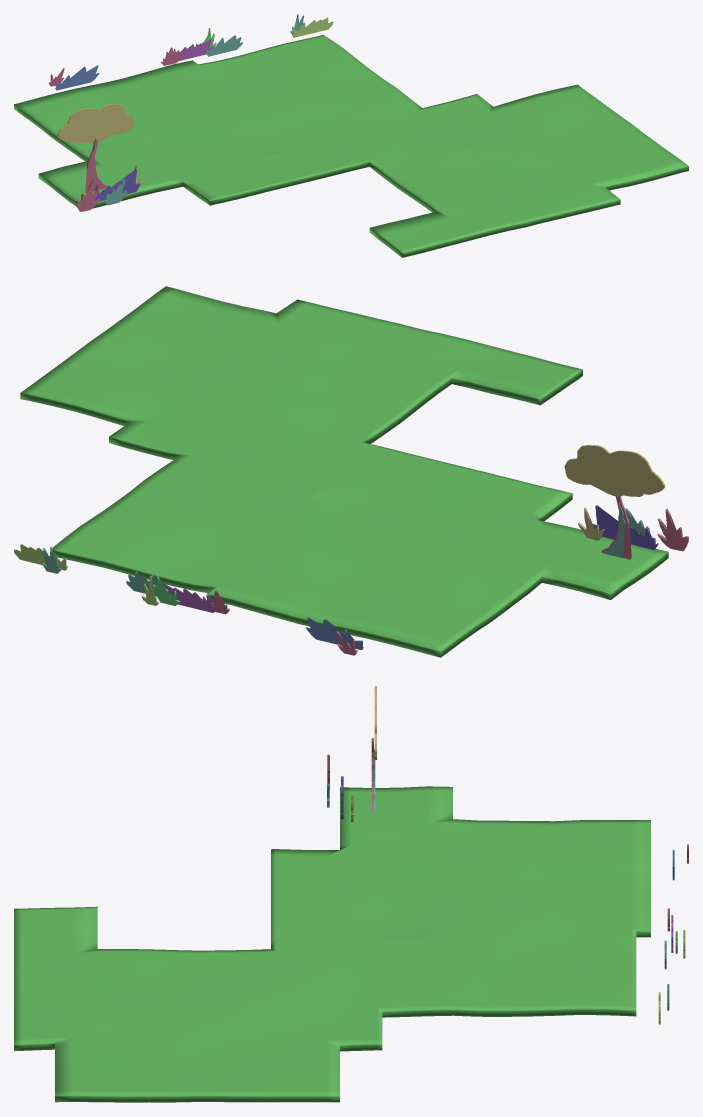
File: additions.fbx
3 views of the same model, one above another, from view 1: azimuth 30°, elevation 25°; view 2: azimuth 150°, elevation 25°; view 3: azimuth 270°, elevation 25° (orthographic). The views are drawn at different scales.
Visible parts, largest first — view 1: Plane.019, Plane.016, Plane.006, Plane.011, Plane.014, Plane.004, Plane.002, Plane.012, Plane.003; view 2: Plane.019, Plane.016, Plane.011, Plane.006, Plane.012, Plane.003; view 3: Plane.019.
Part boxes in pixels (x1=…): Plane.019: x1=14, y1=35, x2=688, y2=257; Plane.016: x1=57, y1=104, x2=133, y2=143; Plane.006: x1=55, y1=65, x2=99, y2=90; Plane.011: x1=94, y1=169, x2=140, y2=201; Plane.014: x1=85, y1=139, x2=107, y2=192; Plane.004: x1=292, y1=17, x2=333, y2=37; Plane.002: x1=205, y1=35, x2=242, y2=56; Plane.012: x1=76, y1=179, x2=99, y2=211; Plane.003: x1=173, y1=39, x2=211, y2=60; Plane.019: x1=20, y1=286, x2=668, y2=657; Plane.016: x1=564, y1=445, x2=665, y2=496; Plane.011: x1=592, y1=505, x2=658, y2=549; Plane.006: x1=305, y1=617, x2=363, y2=649; Plane.012: x1=657, y1=508, x2=688, y2=551; Plane.003: x1=162, y1=582, x2=216, y2=612; Plane.019: x1=14, y1=786, x2=650, y2=1102.
Bounding box in the file's own units: 4345 × 733 × 3918.
